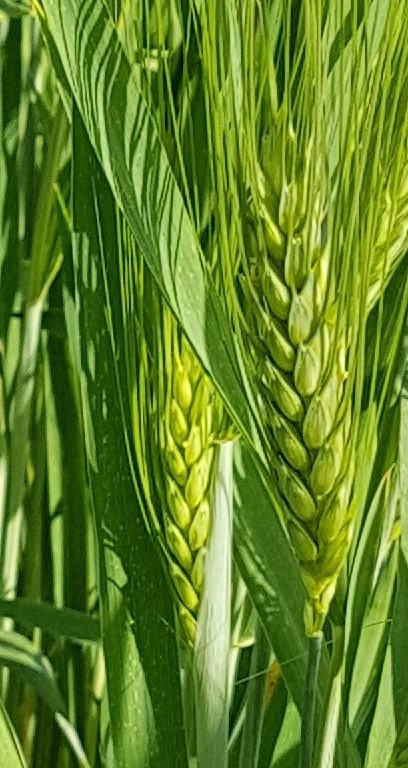Healthy Wheat: (241, 190, 365, 598)
